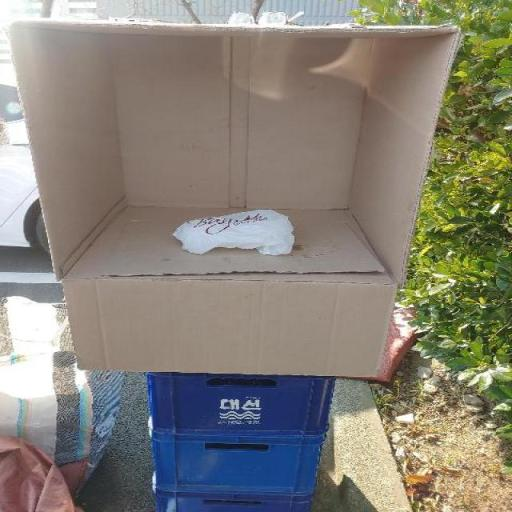plastic-bag: (172, 207, 302, 260)
